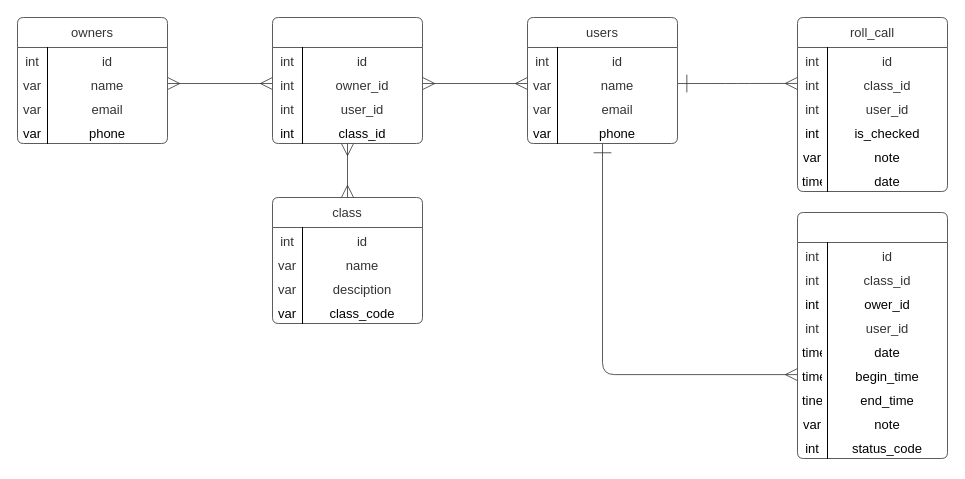
This 965x479 diagram has some shape labels left out. Each missing label, with the box of its shape:
day_off: (797, 212, 947, 458)
owner_user_class: (272, 17, 422, 143)
